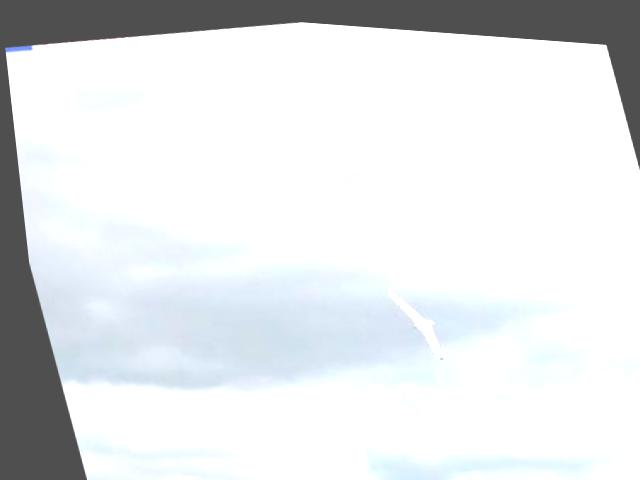flying wing: (378, 276, 444, 367)
